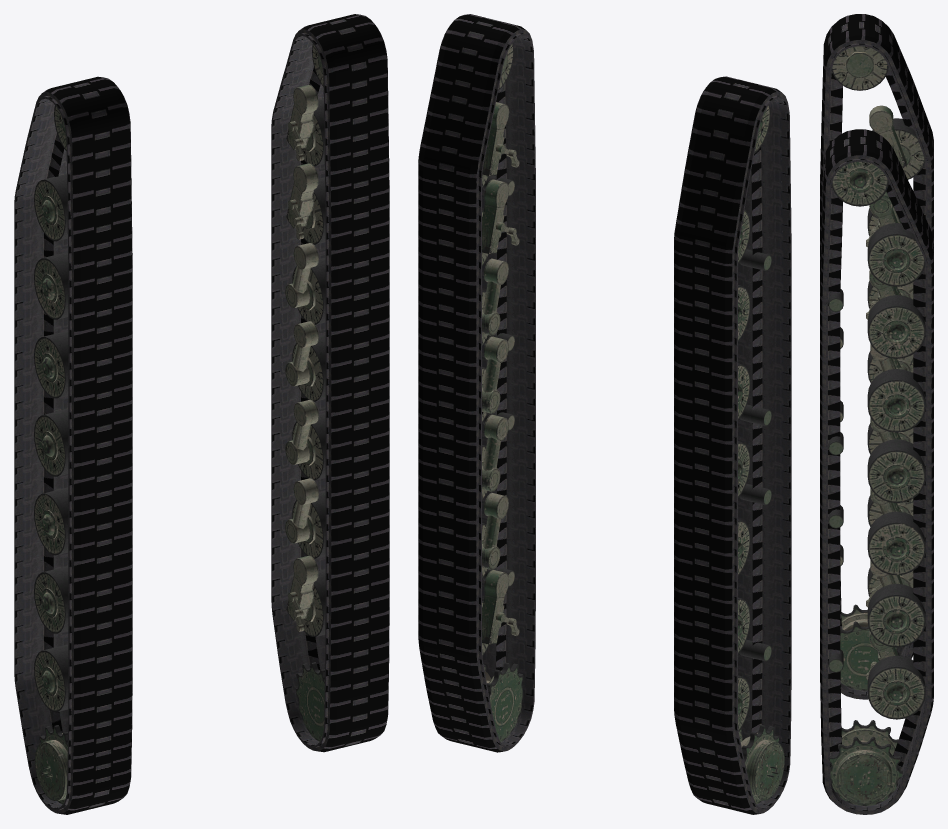
Rendered from Chassis.glb.
3 views of the same model, side by side, from view 1: azimuth 30°, elevation 25°; view 2: azimuth 150°, elevation 25°; view 3: azimuth 270°, elevation 25° (orthographic). The views are drawn at different scales.
Visible parts, largest first — view 1: set_0_group_0, set_1_group_0, set_3_group_0, set_2_group_0; view 2: set_0_group_0, set_1_group_0, set_3_group_0, set_2_group_0; view 3: set_3_group_0, set_1_group_0, set_2_group_0, set_0_group_0.
Boxes of the visible parts, x1=… form: set_0_group_0: x1=14, y1=76, x2=132, y2=814; set_1_group_0: x1=271, y1=14, x2=389, y2=752; set_3_group_0: x1=285, y1=44, x2=325, y2=741; set_2_group_0: x1=34, y1=105, x2=68, y2=804; set_0_group_0: x1=674, y1=76, x2=791, y2=814; set_1_group_0: x1=418, y1=14, x2=535, y2=752; set_3_group_0: x1=482, y1=43, x2=522, y2=741; set_2_group_0: x1=738, y1=105, x2=784, y2=804; set_3_group_0: x1=828, y1=161, x2=925, y2=805; set_1_group_0: x1=820, y1=129, x2=933, y2=814; set_2_group_0: x1=831, y1=46, x2=924, y2=690; set_0_group_0: x1=820, y1=14, x2=933, y2=699.
Bounding box in the file's own units: 3.45 × 7.21 × 1.12.
4 materials, 4 textured.
